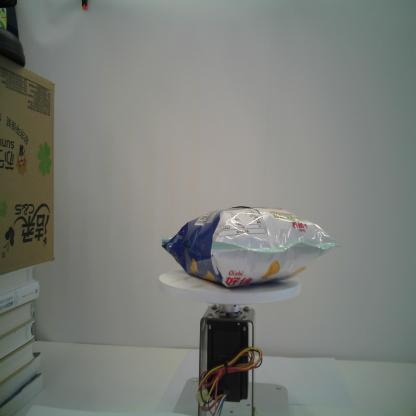Puffed Food: (161, 206, 341, 288)
